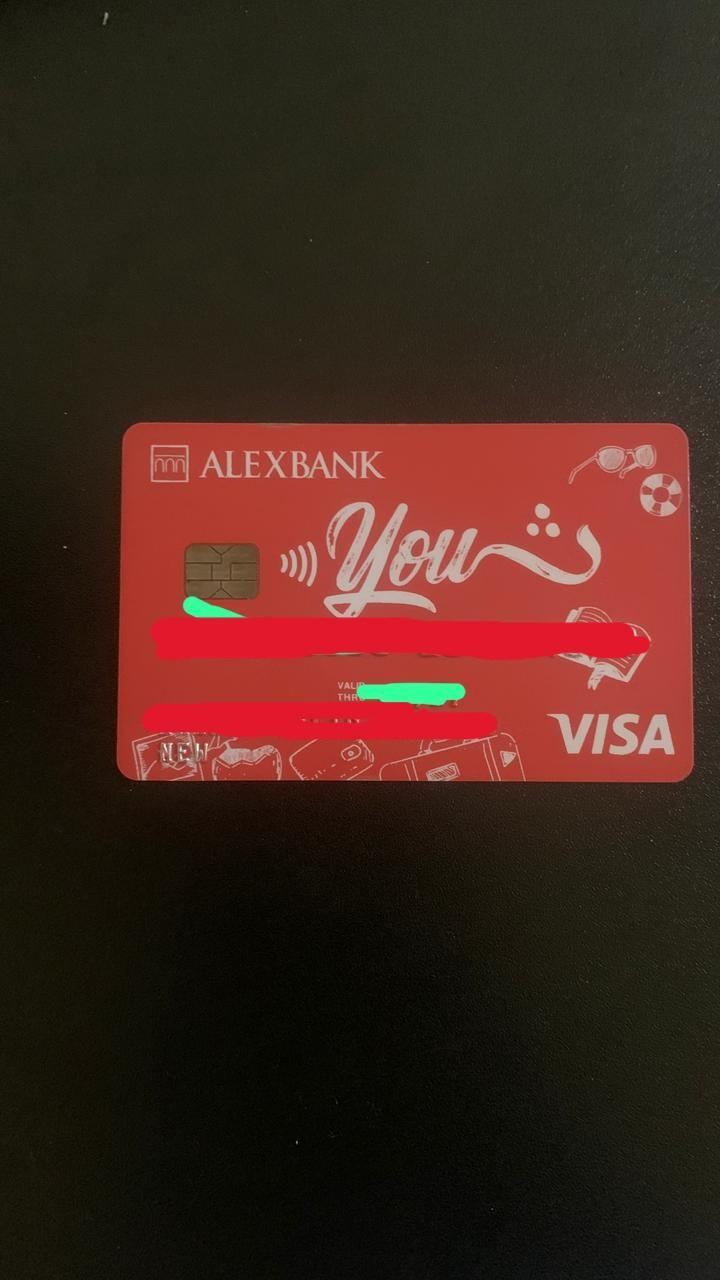payment_card: (117, 416, 698, 783)
